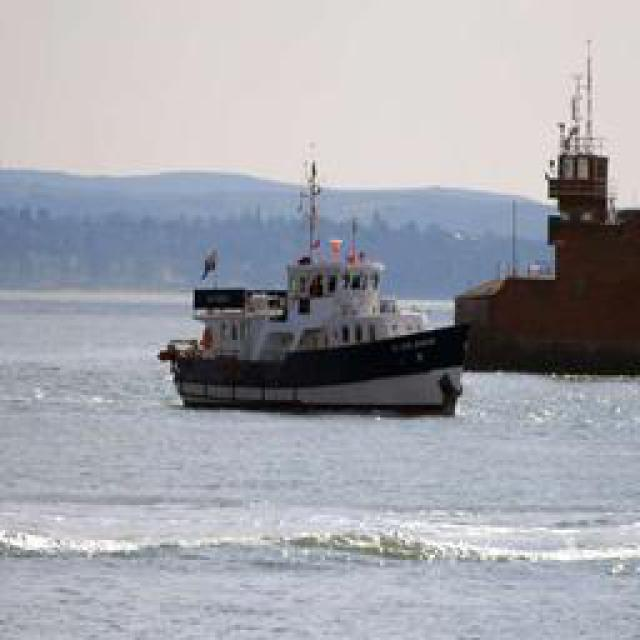Ship: (162, 149, 465, 419)
